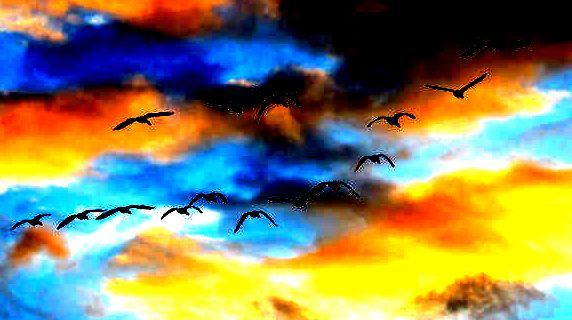Bird: (422, 72, 486, 101), (305, 178, 360, 205), (111, 110, 176, 132), (94, 199, 156, 221), (232, 208, 278, 236), (350, 152, 395, 176), (57, 206, 105, 226), (366, 110, 416, 129), (9, 210, 52, 230), (160, 203, 203, 222)
